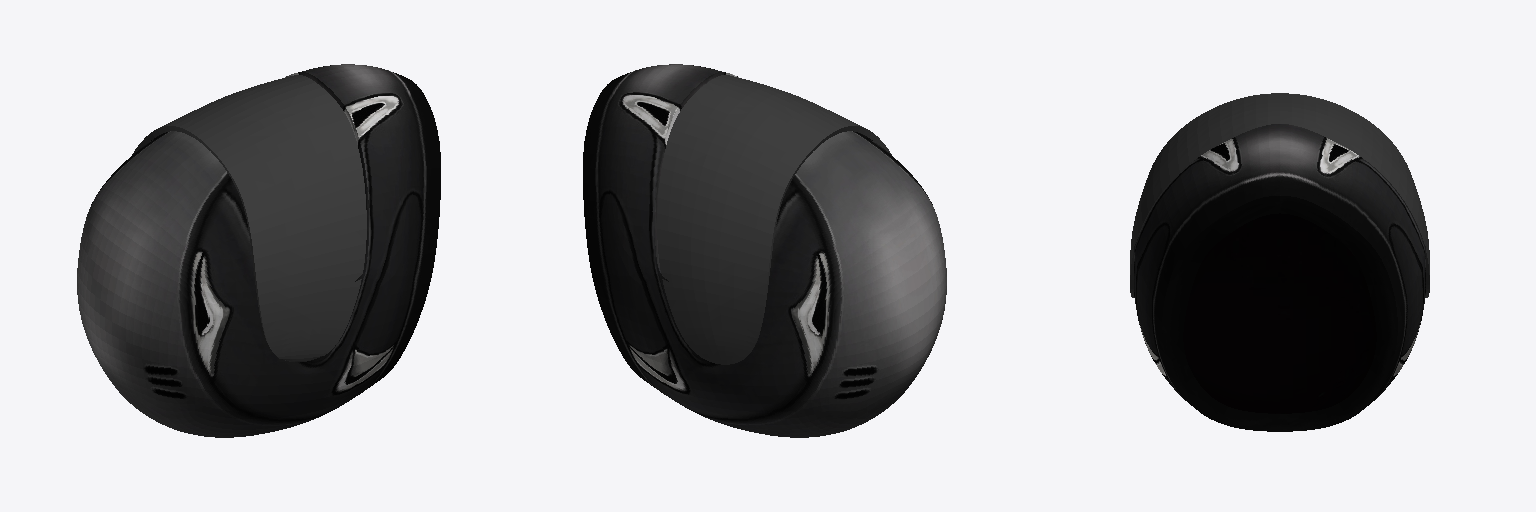
3 views of the same model, side by side, from view 1: azimuth 30°, elevation 25°; view 2: azimuth 150°, elevation 25°; view 3: azimuth 270°, elevation 25° (orthographic).
Visible parts, largest first — view 1: 10517_Motorcycle_Helmet_v01_L3; view 2: 10517_Motorcycle_Helmet_v01_L3; view 3: 10517_Motorcycle_Helmet_v01_L3.
Boxes of the visible parts, x1,y1,x2,y2 form: 10517_Motorcycle_Helmet_v01_L3: [77, 64, 440, 437]; 10517_Motorcycle_Helmet_v01_L3: [583, 64, 946, 437]; 10517_Motorcycle_Helmet_v01_L3: [1130, 93, 1429, 431].
Size of the model in its own units: 40.36 by 40.2 by 33.54.
Materials: 2 (1 with a texture image).